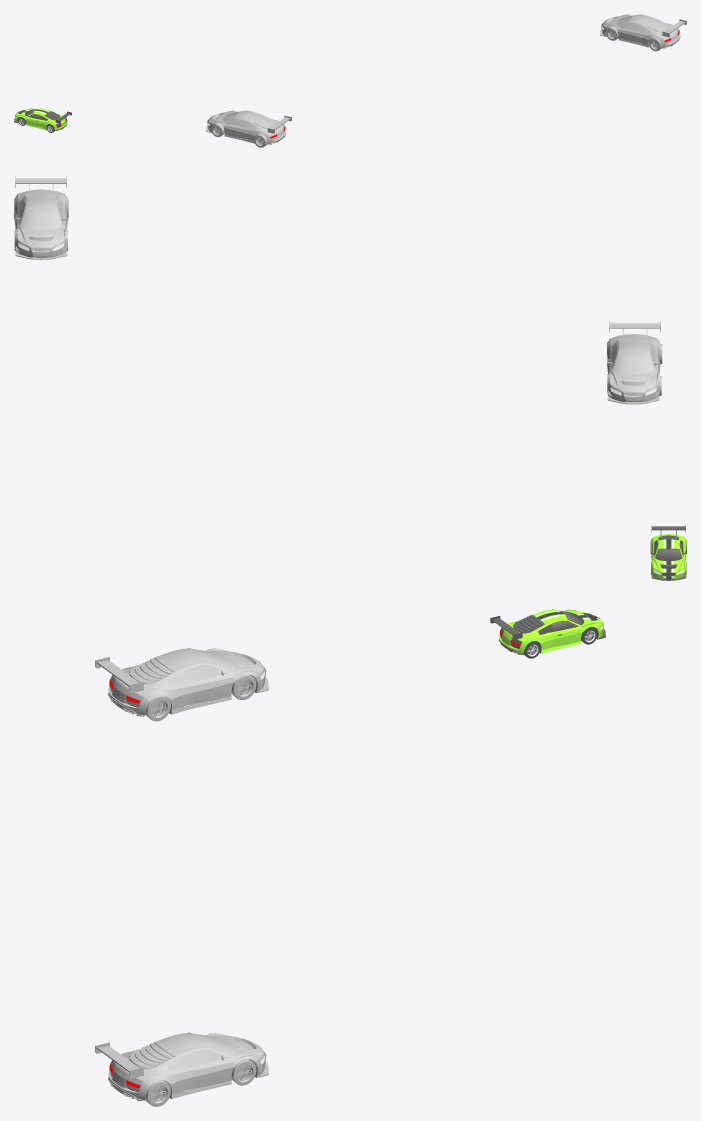
The model's file is Aurora.glb.
3 views of the same model, one above another, from view 1: azimuth 30°, elevation 25°; view 2: azimuth 150°, elevation 25°; view 3: azimuth 270°, elevation 25° (orthographic). The views are drawn at different scales.
Parts seen in each view (by area): view 1: Body_12, Body_11, Body_19; view 2: Body_11, Body_12, Body_19; view 3: Body_11, Body_12, Body_19.
Boxes of the visible parts, x1,y1,x2,y2 form: Body_12: [600, 14, 680, 48]; Body_11: [206, 110, 286, 144]; Body_19: [14, 108, 67, 130]; Body_11: [607, 334, 660, 404]; Body_12: [14, 189, 67, 259]; Body_19: [651, 534, 686, 580]; Body_11: [107, 647, 268, 716]; Body_12: [108, 1032, 268, 1100]; Body_19: [498, 609, 605, 654].
Size of the model in its own units: 55.79 by 4.73 by 22.07.
3 materials, 2 textured.
